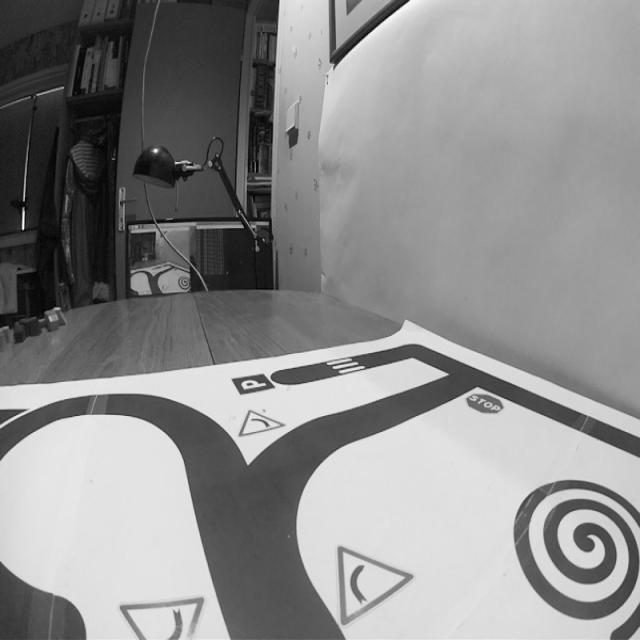laneRightTurn: (216, 416, 362, 640)
leftTurn: (210, 403, 290, 448)
nest: (505, 474, 639, 640)
rightTurn: (292, 530, 422, 634)
